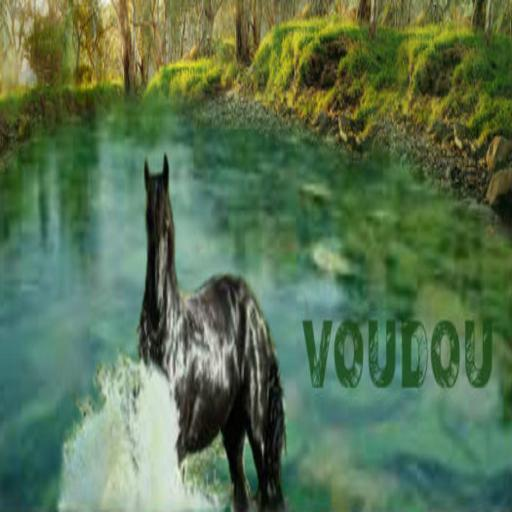horse: (136, 148, 288, 510)
